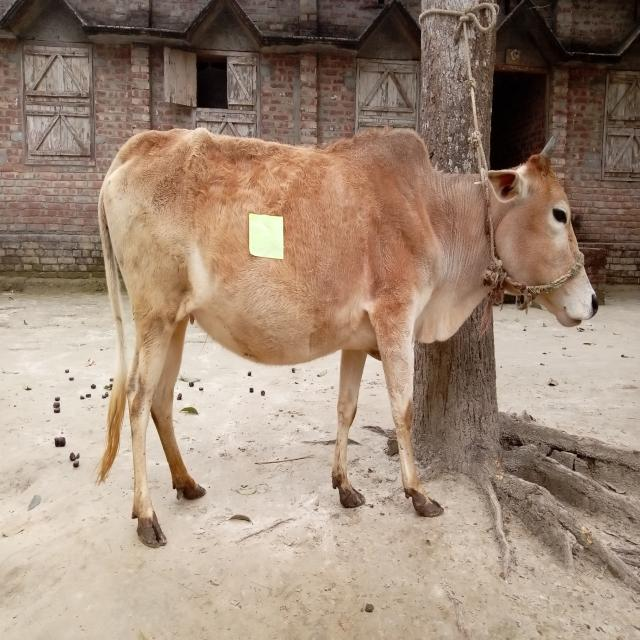badan_sapi: (138, 141, 420, 358)
sapi: (80, 115, 603, 564)
